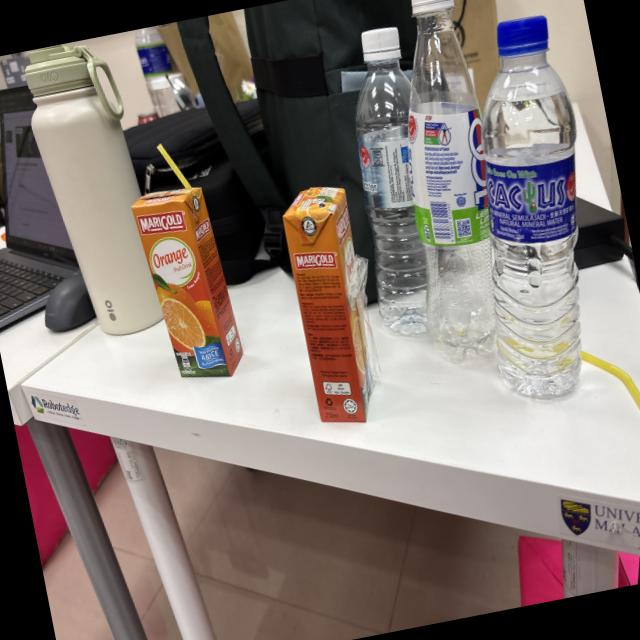drink_carton: (117, 125, 256, 392), (268, 165, 394, 448)
plastic_bottle: (427, 0, 638, 421), (361, 0, 539, 395), (315, 6, 475, 358)
